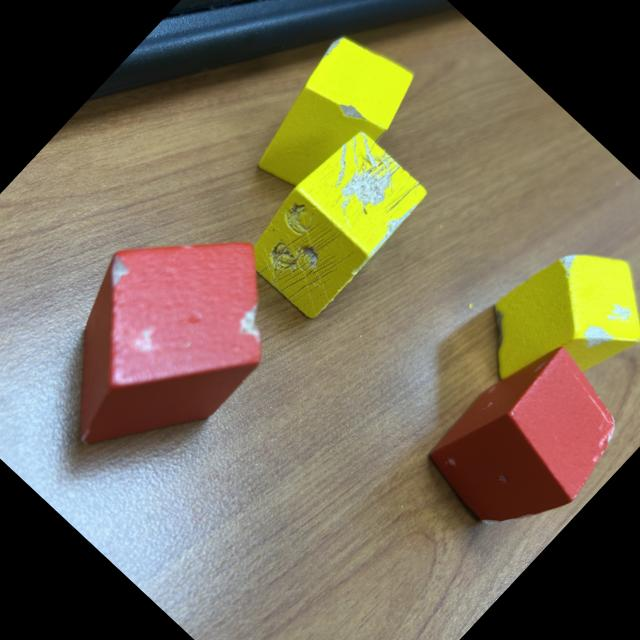broken: (5, 180, 316, 494), (415, 327, 640, 558), (456, 213, 640, 433), (234, 123, 432, 324), (235, 19, 430, 218)
